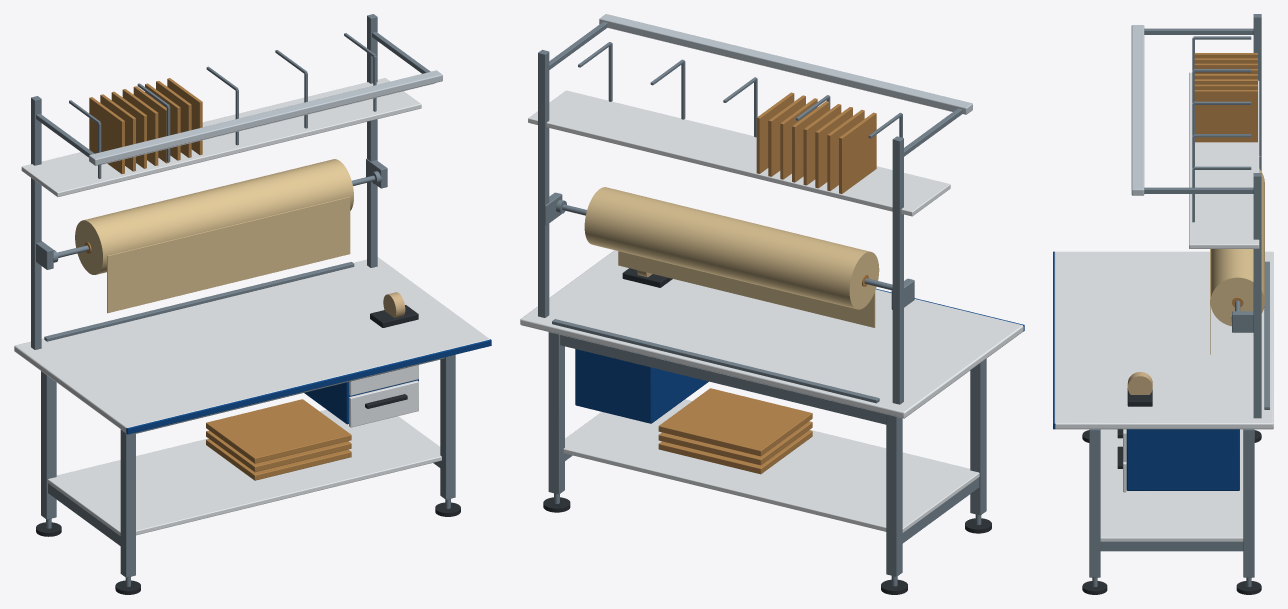
Rendered from packing_bench_1800.glb.
3 renders of one model, left to right at view 1: azimuth 30°, elevation 25°; view 2: azimuth 150°, elevation 25°; view 3: azimuth 270°, elevation 25°, orthographic. The views are drawn at different scales.
Visible parts, largest first — view 1: Laminate worktop.001, Underbench shelf.001, Paper tail, PACK_PAPER_ROLL, Upper supply shelf, Stored carton blanks.002, Luminaire housing, Edge band.001, Rear upright, Leg profile.004, Leg profile.006, Leg profile.005 (+16 smaller); view 2: Laminate worktop.001, Underbench shelf.001, PACK_PAPER_ROLL, Upper supply shelf, Stored carton blanks.002, Drawer unit.001, Luminaire housing, Paper tail, Apron.003, Rear upright, Rear upright.001, Leg profile.005 (+14 smaller); view 3: Laminate worktop.001, Underbench shelf.001, Drawer unit.001, Upper supply shelf, PACK_PAPER_ROLL, Flat carton blank.007, Luminaire housing, Rear upright.001, Leg profile.006, Leg profile.007, Lower crossbar.003, Cutting strip (+13 smaller).
Boxes of the visible parts, left/top/right/bottom form: Laminate worktop.001: left=14, top=257, right=489, bottom=432; Underbench shelf.001: left=47, top=409, right=441, bottom=535; Paper tail: left=107, top=196, right=350, bottom=313; PACK_PAPER_ROLL: left=75, top=159, right=353, bottom=274; Upper supply shelf: left=21, top=78, right=421, bottom=196; Stored carton blanks.002: left=206, top=399, right=351, bottom=463; Luminaire housing: left=89, top=70, right=442, bottom=165; Edge band.001: left=126, top=339, right=491, bottom=434; Rear upright: left=31, top=96, right=41, bottom=349; Leg profile.004: left=120, top=429, right=135, bottom=577; Leg profile.006: left=440, top=354, right=455, bottom=499; Leg profile.005: left=41, top=371, right=56, bottom=519; Laminate worktop.001: left=520, top=250, right=1023, bottom=418; Underbench shelf.001: left=563, top=399, right=979, bottom=532; PACK_PAPER_ROLL: left=584, top=187, right=879, bottom=309; Upper supply shelf: left=528, top=90, right=950, bottom=216; Stored carton blanks.002: left=658, top=388, right=812, bottom=456; Drawer unit.001: left=575, top=349, right=708, bottom=423; Luminaire housing: left=599, top=14, right=972, bottom=114; Paper tail: left=618, top=251, right=875, bottom=327; Apron.003: left=560, top=335, right=886, bottom=424; Rear upright: left=892, top=136, right=903, bottom=404; Rear upright.001: left=538, top=49, right=549, bottom=317; Leg profile.005: left=886, top=414, right=902, bottom=576; Laminate worktop.001: left=1054, top=251, right=1273, bottom=429; Underbench shelf.001: left=1100, top=429, right=1243, bottom=541; Drawer unit.001: left=1126, top=429, right=1239, bottom=490; Upper supply shelf: left=1189, top=72, right=1259, bottom=248; PACK_PAPER_ROLL: left=1210, top=169, right=1264, bottom=326; Flat carton blank.007: left=1194, top=90, right=1257, bottom=142; Luminaire housing: left=1131, top=25, right=1144, bottom=195; Rear upright.001: left=1253, top=173, right=1261, bottom=418; Leg profile.006: left=1089, top=429, right=1100, bottom=577; Leg profile.007: left=1243, top=429, right=1254, bottom=577; Lower crossbar.003: left=1100, top=541, right=1243, bottom=551; Cutting strip: left=1264, top=261, right=1269, bottom=409.
Size of the model in its own units: 1.8 by 2.04 by 0.975.
